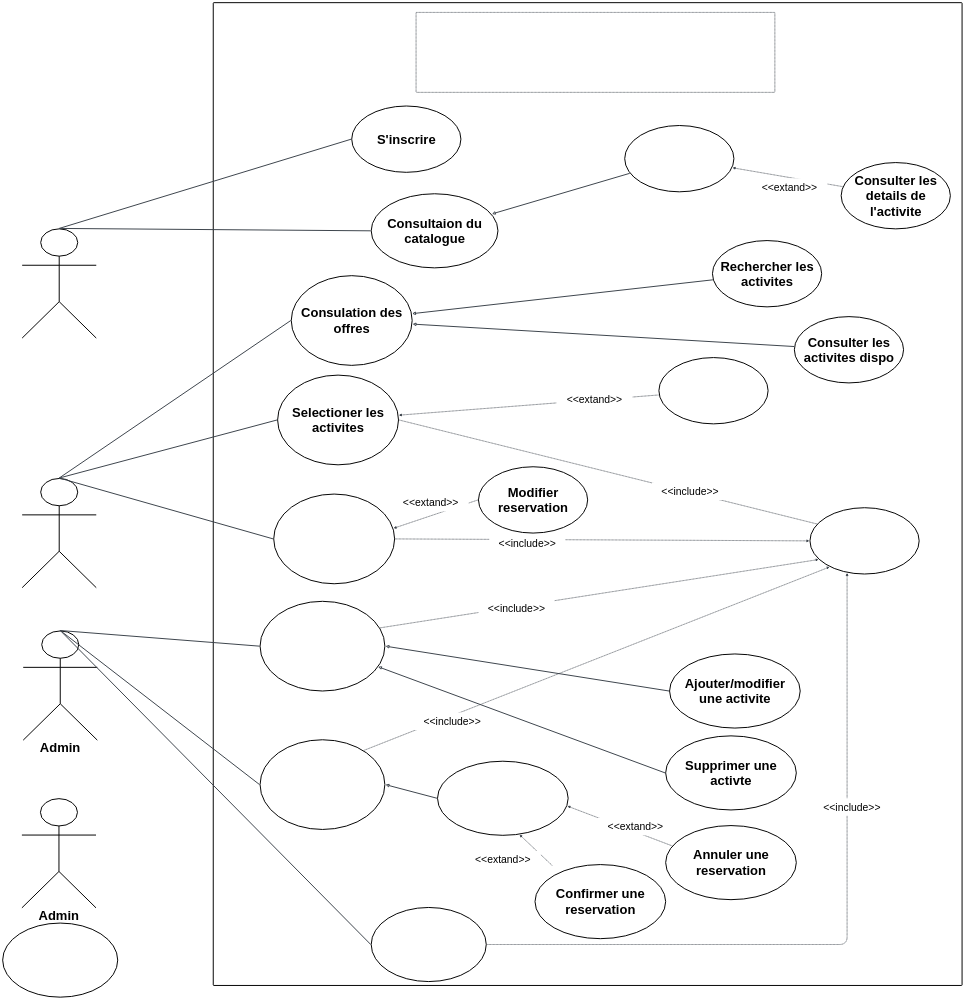
Image size: 965x1000. Some labels were removed from this diagram. The box of each missing label's shape, as (x1, y1, x2, y2) in pixels:
Archivé/bannir des utilisateurs: (371, 907, 487, 982)
Attribuer des roles aux utilisateurs: (2, 923, 118, 998)
Client: (22, 478, 97, 588)
Gerer les activites: (260, 601, 385, 691)
Gerer les reservations: (260, 739, 385, 830)
Log In: (809, 507, 920, 574)
Parcourir les activites dispo: (624, 125, 734, 192)
Personnaliser des options: (658, 357, 769, 424)
Realiser reservation en ligne: (273, 494, 395, 584)
System de gestion de reservation de voyage: (416, 12, 775, 93)
Visiteur: (22, 228, 97, 338)
Visualiser les reservations en cours: (437, 761, 569, 836)
